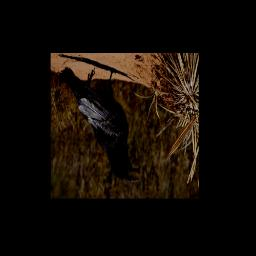Crow: (58, 67, 139, 182)
